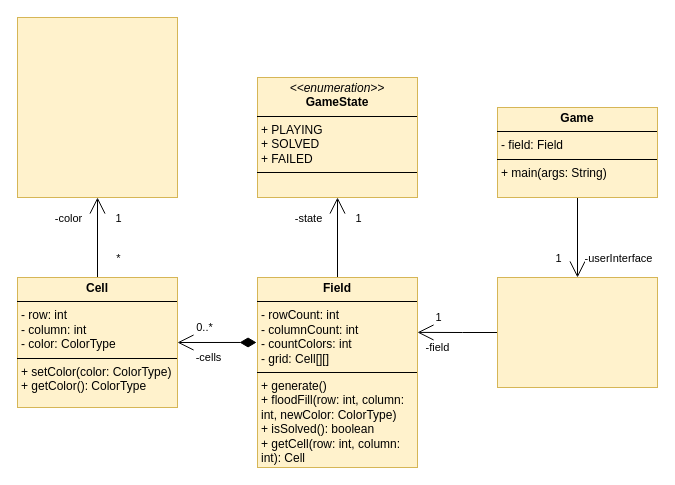
This 675x485 diagram has some shape labels left out. The shapes that lost their labels are listed below. From the top down, each one's centre as x and y in pixels, then its label:
At pixel 97 107: "<<enumeration>> ColorType + RED + BLUE + GREEN + YELLOW + PURPLE + ORANGE + PINK".
At pixel 577 332: "ConcoleUI + play(field: Field) + render() + handleInput()".
